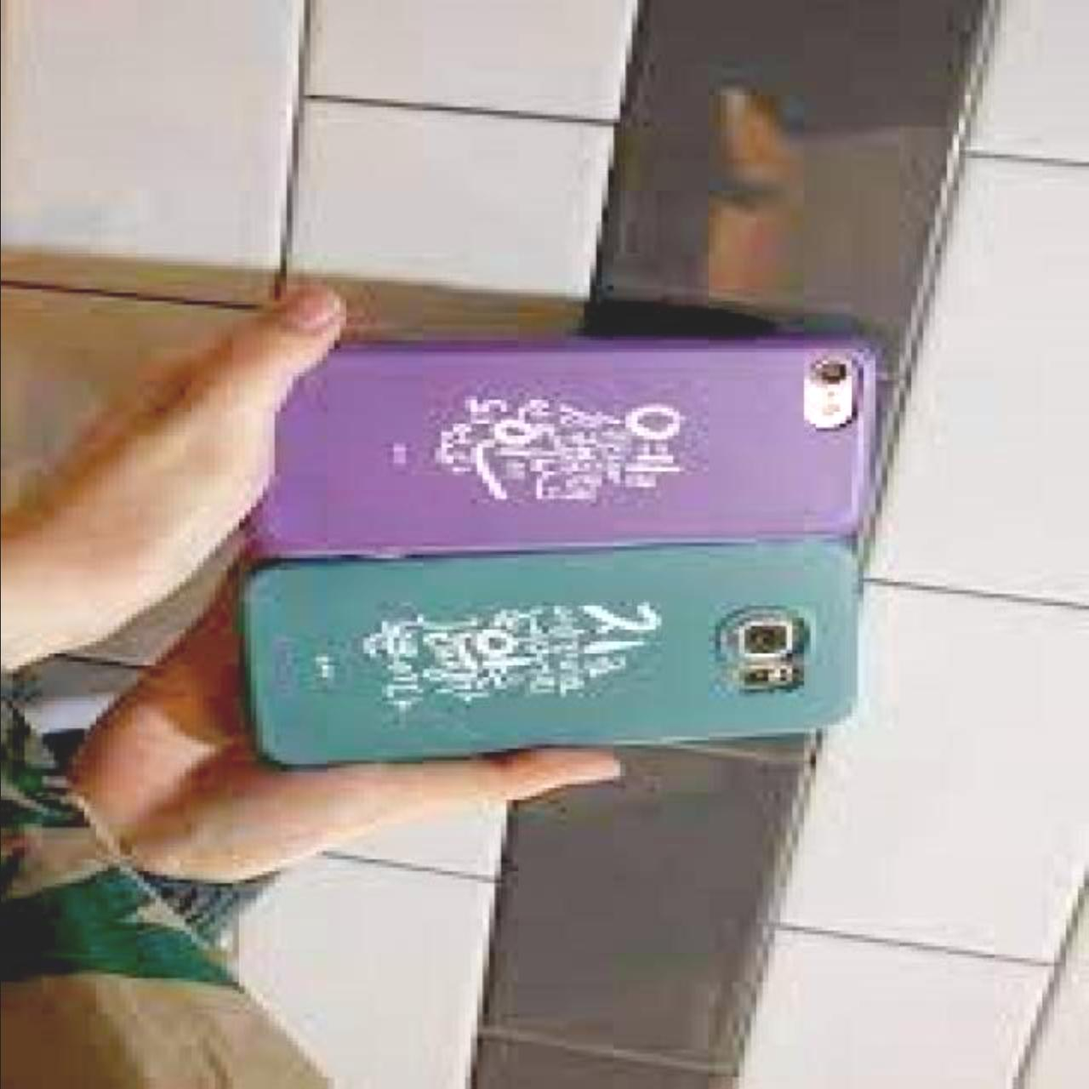phone: (248, 531, 863, 766), (245, 339, 878, 550)
